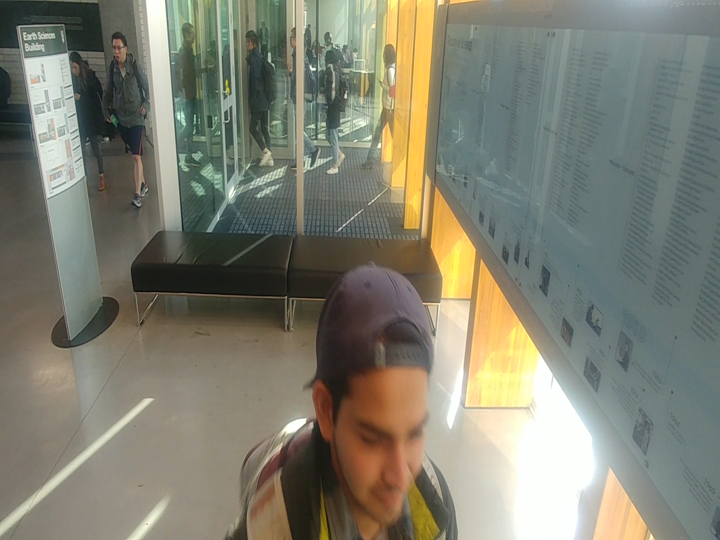face: (300, 256, 441, 527), (64, 48, 92, 84), (108, 28, 132, 62), (177, 19, 202, 50), (238, 26, 265, 54), (318, 47, 346, 70), (376, 41, 398, 69)
human: (221, 261, 472, 540), (100, 27, 153, 211), (64, 45, 111, 193), (169, 19, 207, 167), (240, 26, 279, 169), (359, 42, 397, 173), (314, 46, 351, 174)
